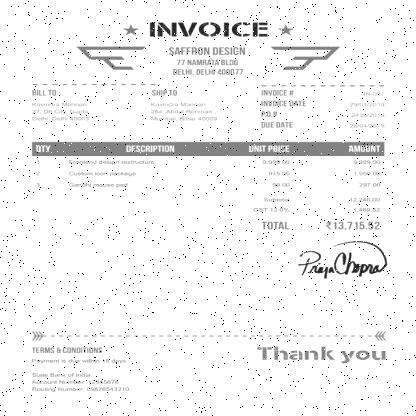Paragraph: (258, 88, 386, 130), (250, 195, 382, 232), (30, 346, 130, 394), (166, 45, 247, 77), (150, 87, 219, 124), (255, 346, 387, 364), (148, 20, 270, 38), (29, 88, 91, 122)
Table: (31, 142, 384, 192)
